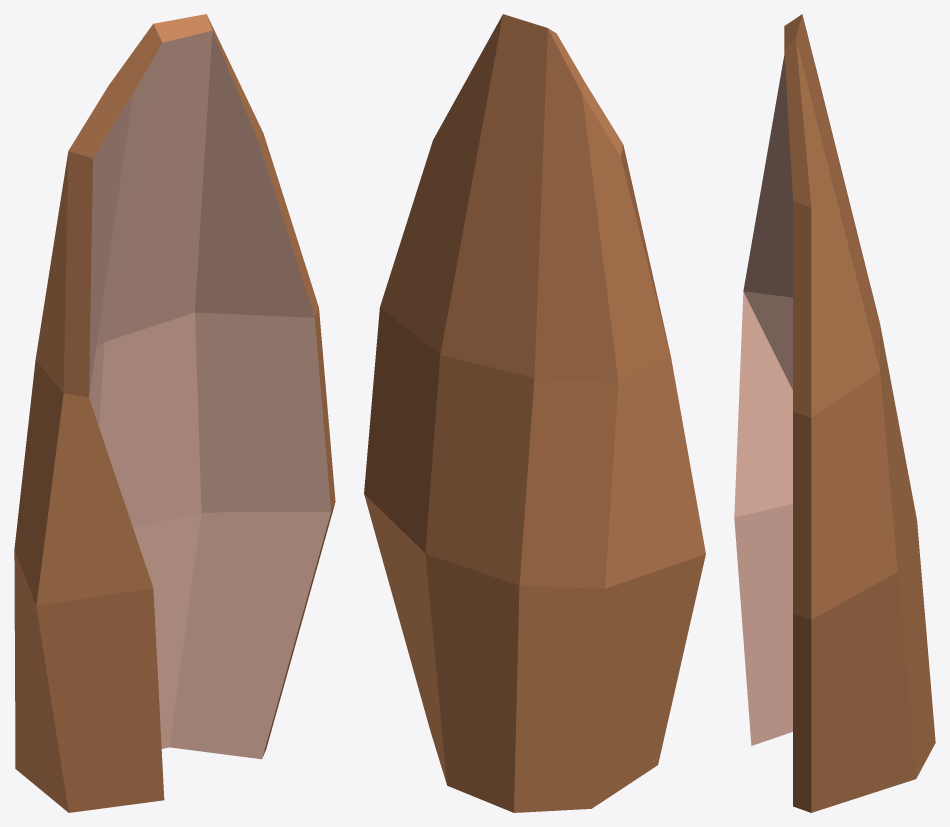
The model's file is ccb8f155-a02b-4a52-9f7f-638e6f891216.glb.
3 views of the same model, side by side, from view 1: azimuth 30°, elevation 25°; view 2: azimuth 150°, elevation 25°; view 3: azimuth 270°, elevation 25° (orthographic). The views are drawn at different scales.
Visible parts, largest first — view 1: Geo_RabbitEar; view 2: Geo_RabbitEar; view 3: Geo_RabbitEar.
Part boxes in pixels (bbox=[...]): Geo_RabbitEar: bbox=[14, 14, 335, 812]; Geo_RabbitEar: bbox=[364, 14, 705, 812]; Geo_RabbitEar: bbox=[734, 14, 935, 812].
Size of the model in its own units: 14.31 by 31.69 by 7.77.
Materials: 1 (1 with a texture image).
